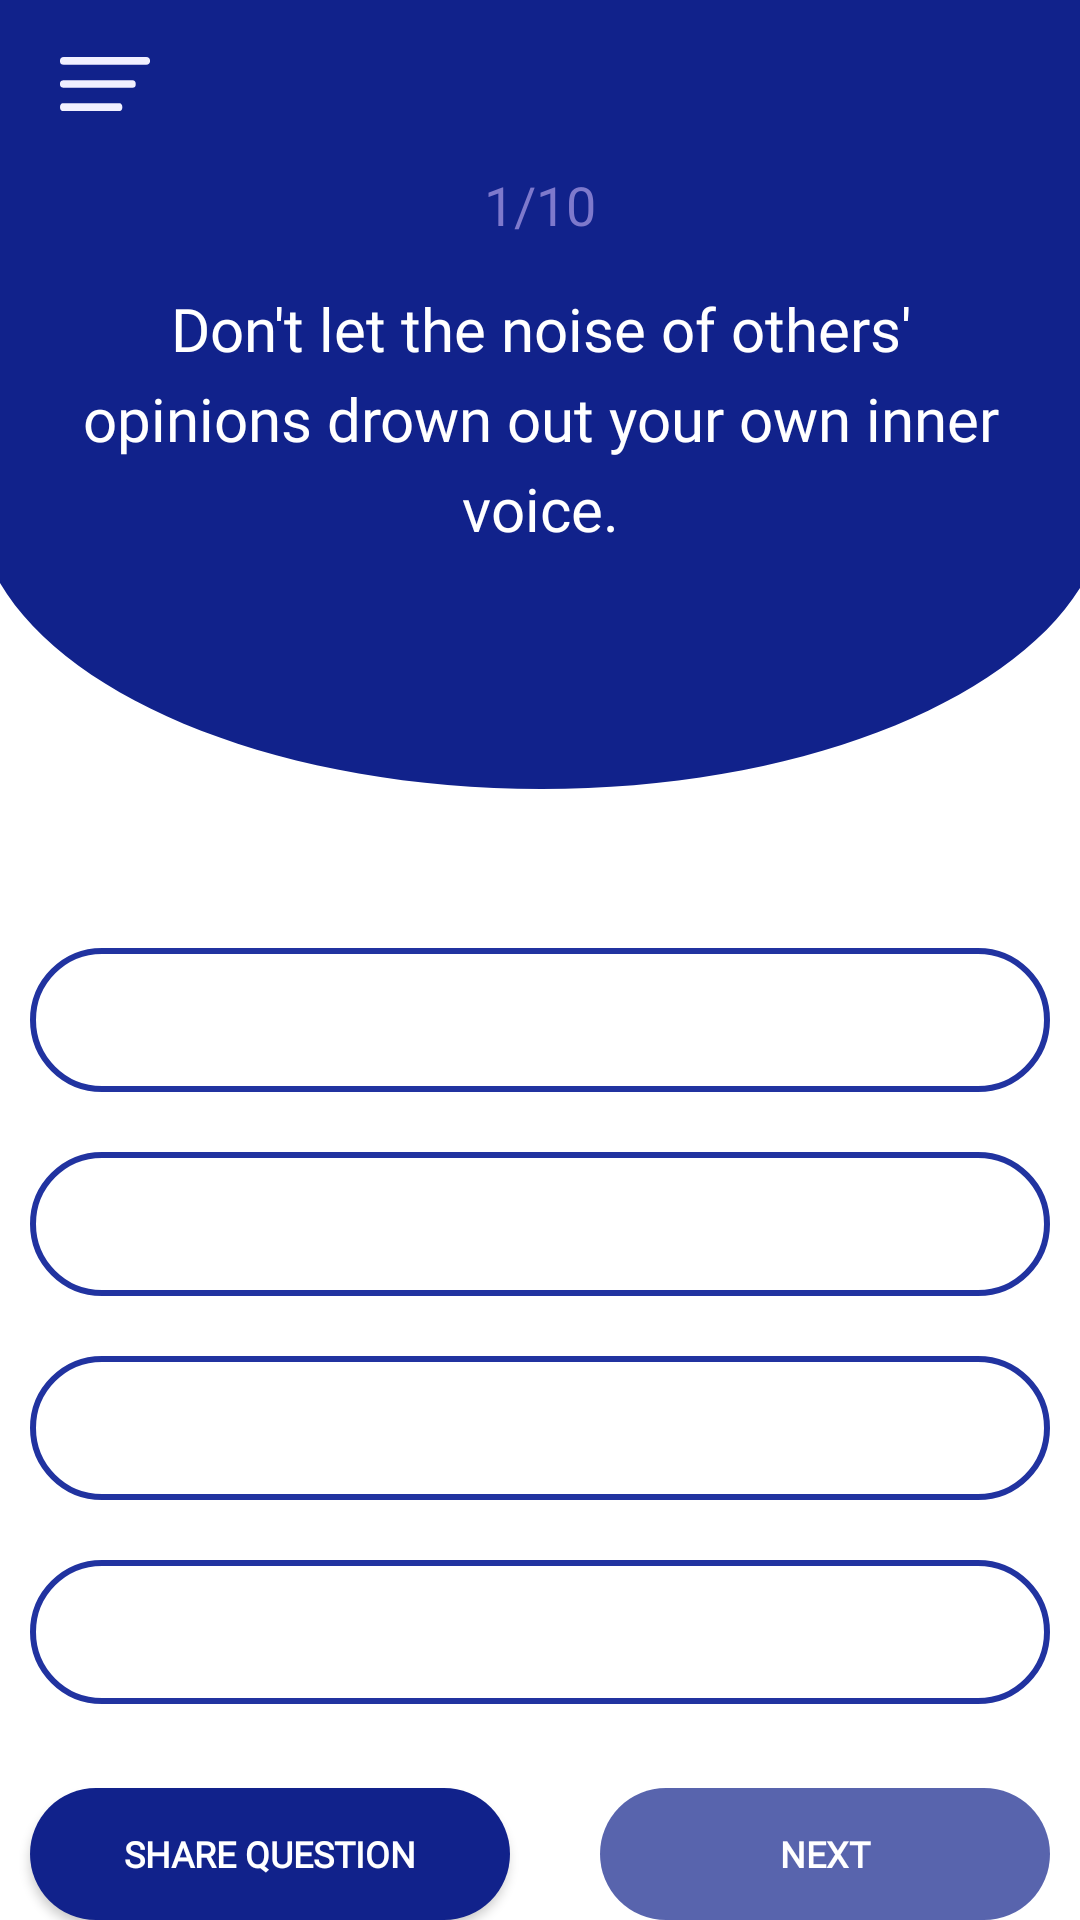

Icons on this 1080 x 1920 Android screen, each with the point to tap as (x,y):
menu: (105,84)
